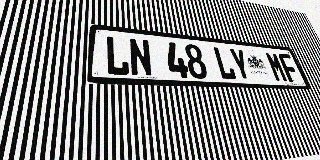4: (165, 42, 190, 78)
8: (183, 43, 208, 79)
F: (277, 53, 302, 83)
L: (105, 36, 130, 76), (212, 46, 237, 80)
M: (264, 52, 289, 82)
N: (128, 38, 153, 77)
Y: (228, 48, 253, 81)
